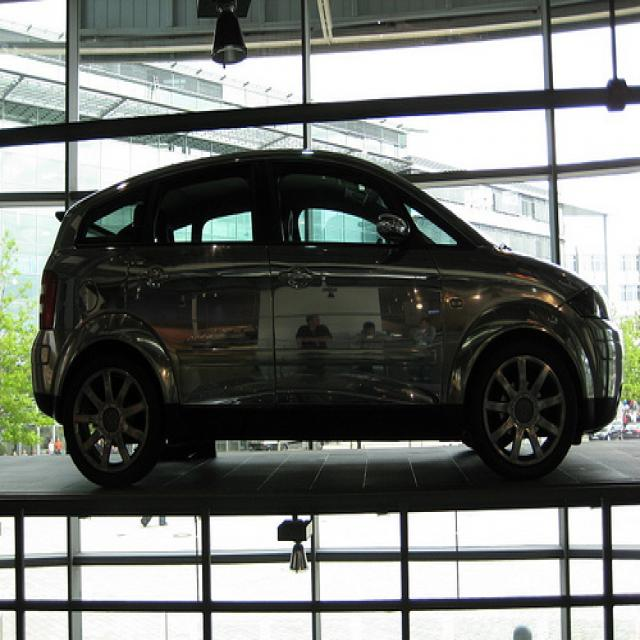Car: (25, 138, 620, 492)
